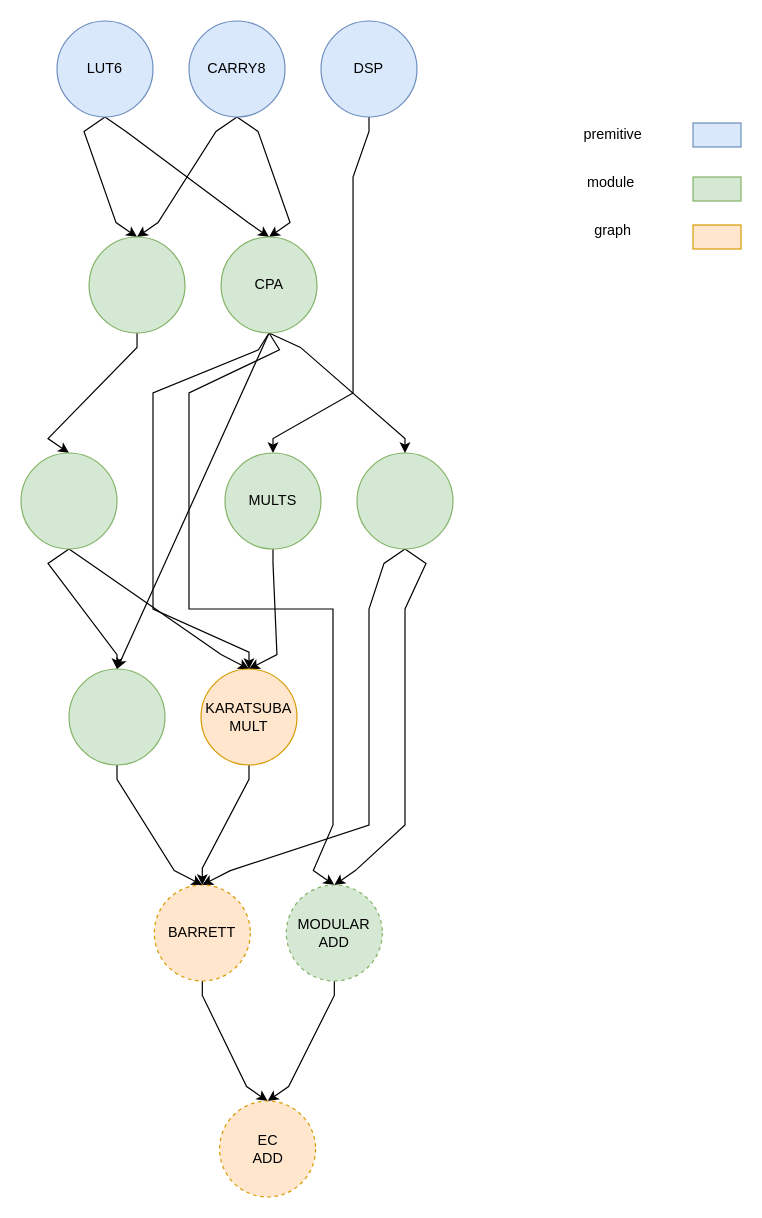
Some shapes in this 762 by 1218 pixel diagram are drawn without their labels. Here are the shapes that lost their labels. From the top down, the centre of each, then its label:
At point (136, 284): "COM- PRESSORS".
At point (68, 500): "COM- PRESSOR TREE".
At point (404, 500): "FINE REDUCTION".
At point (116, 716): "BIG CONSTANT MULT".
